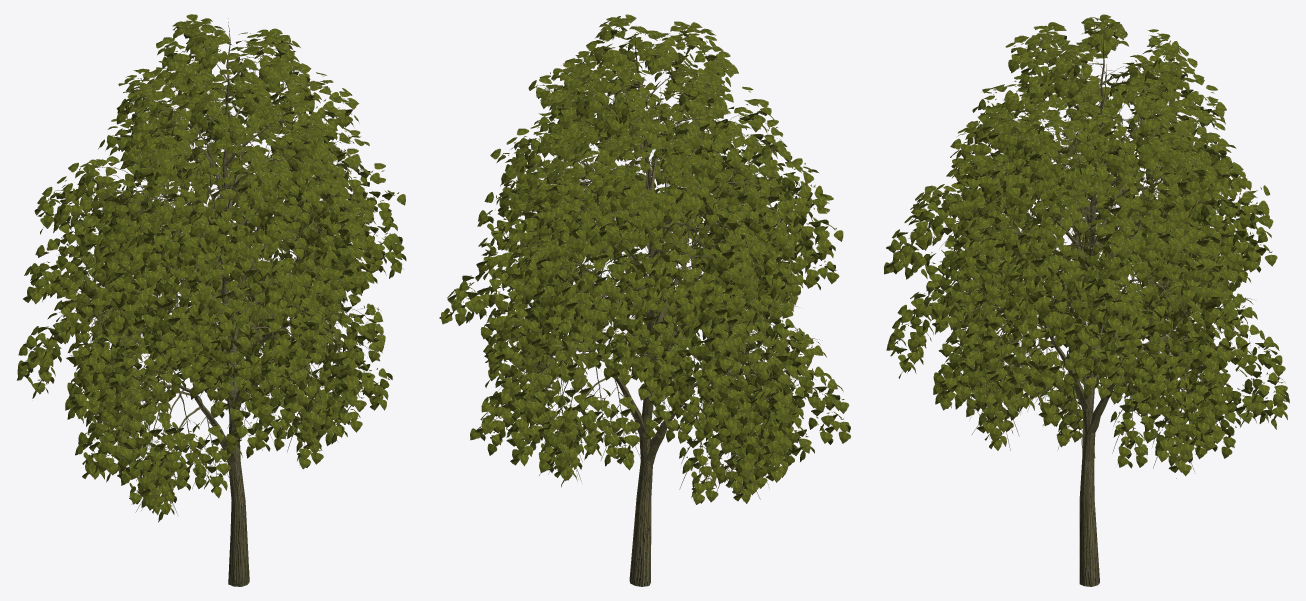
File: Puu1.fbx
The picture shows the model from 3 angles, left to right: view 1: azimuth 30°, elevation 25°; view 2: azimuth 150°, elevation 25°; view 3: azimuth 270°, elevation 25°; orthographic projection.
Parts seen in each view (by area): view 1: Puu1; view 2: Puu1; view 3: Puu1.
Part boxes in pixels (x1,y1,x2,y2): Puu1: [17, 14, 406, 586]; Puu1: [439, 14, 850, 586]; Puu1: [884, 14, 1289, 586].
Bounding box in the file's own units: 412 × 643 × 424.
